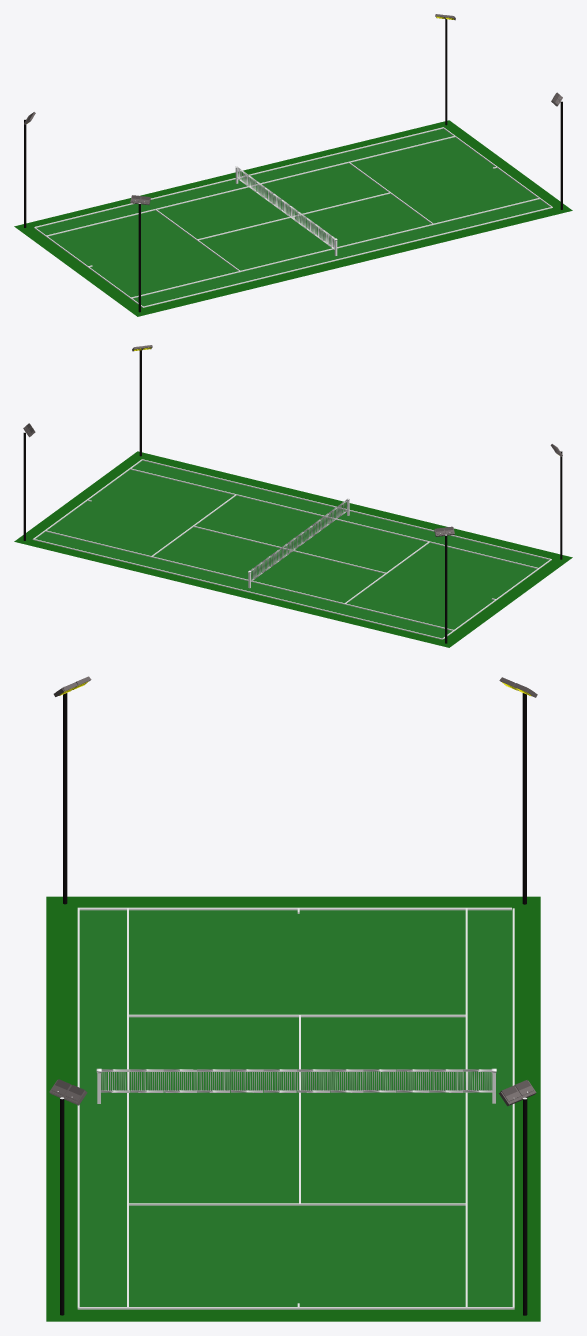
Rendered from tenis_pitch.glb.
The picture shows the model from 3 angles, top to bottom: view 1: azimuth 30°, elevation 25°; view 2: azimuth 150°, elevation 25°; view 3: azimuth 270°, elevation 25°; orthographic projection. The views are drawn at different scales.
Parts seen in each view (by area): view 1: Object_3, Object_2, Object_14, Object_9, Object_10; view 2: Object_3, Object_2, Object_14, Object_9, Object_10; view 3: Object_3, Object_2, Object_14, Object_10, Object_9, Object_5.
Boxes of the visible parts, <box> form: Object_3: <box>36,128,550,306</box>; Object_2: <box>14,120,572,316</box>; Object_14: <box>34,127,552,307</box>; Object_9: <box>24,19,562,312</box>; Object_10: <box>236,167,335,249</box>; Object_3: <box>35,460,548,638</box>; Object_2: <box>14,451,572,647</box>; Object_14: <box>32,459,551,639</box>; Object_9: <box>23,350,562,643</box>; Object_10: <box>250,499,348,581</box>; Object_3: <box>77,910,512,1308</box>; Object_2: <box>46,896,540,1321</box>; Object_14: <box>77,907,514,1309</box>; Object_10: <box>101,1069,495,1092</box>; Object_9: <box>60,693,527,1315</box>; Object_5: <box>49,676,537,1106</box>.
Bounding box in the file's own units: 2531 × 627 × 1245.
